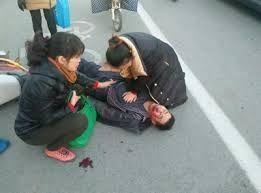Fall-Detected: (63, 43, 171, 131)
